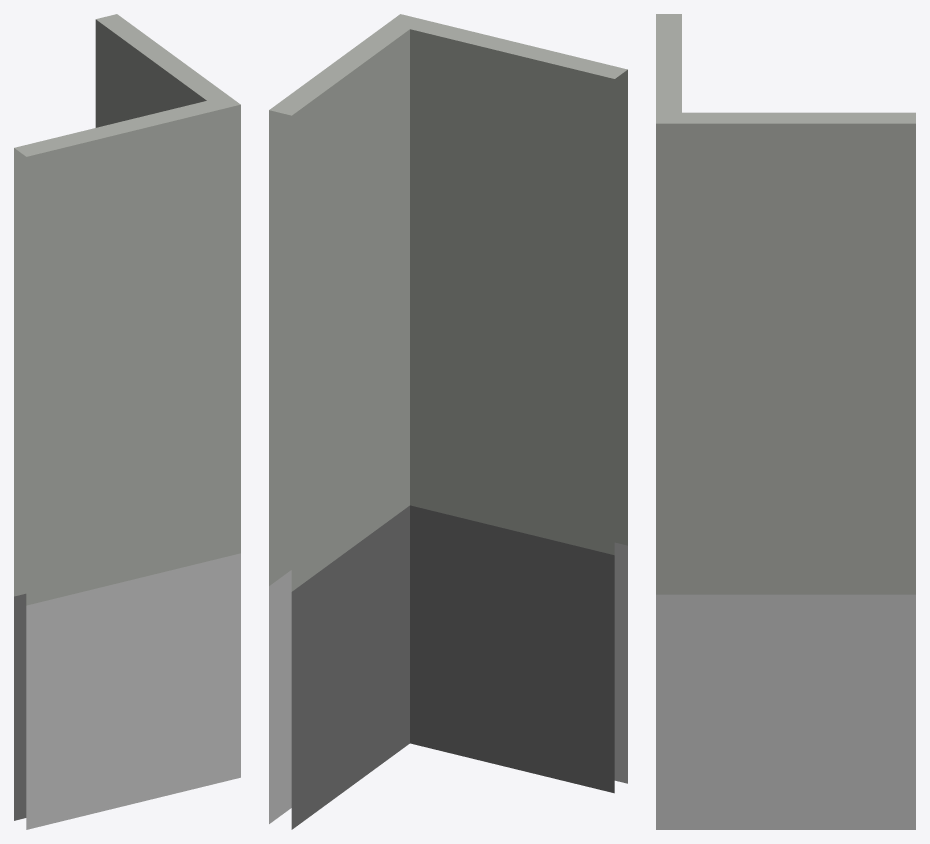
The model's file is SM_Wall_Angle_02.fbx.
3 views of the same model, side by side, from view 1: azimuth 30°, elevation 25°; view 2: azimuth 150°, elevation 25°; view 3: azimuth 270°, elevation 25° (orthographic). The views are drawn at different scales.
Visible parts, largest first — view 1: SM_Wall_Angle_02; view 2: SM_Wall_Angle_02; view 3: SM_Wall_Angle_02.
Part boxes in pixels (x1,y1,x2,y2): SM_Wall_Angle_02: [14, 14, 240, 829]; SM_Wall_Angle_02: [269, 14, 627, 829]; SM_Wall_Angle_02: [656, 14, 915, 829].
Size of the model in its own units: 100 by 300 by 100.
